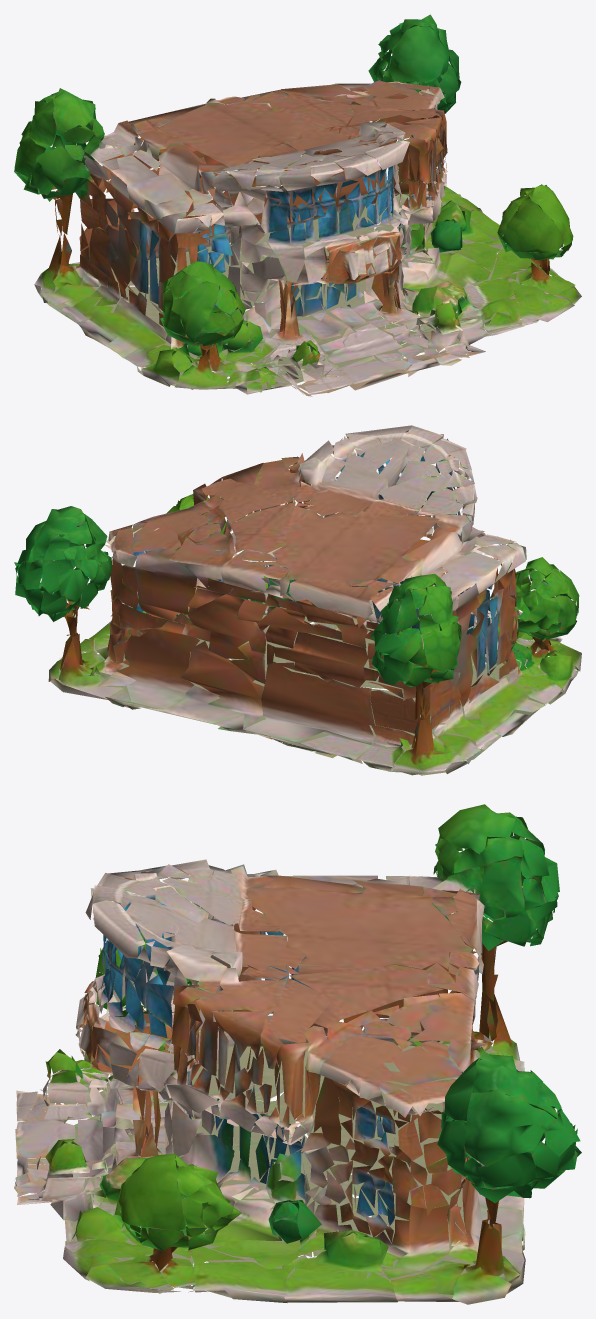
Rendered from library.glb.
3 views of the same model, one above another, from view 1: azimuth 30°, elevation 25°; view 2: azimuth 150°, elevation 25°; view 3: azimuth 270°, elevation 25° (orthographic). The views are drawn at different scales.
Visible parts, largest first — view 1: Mesh_0; view 2: Mesh_0; view 3: Mesh_0.
Boxes of the visible parts, left/top/right/bottom form: Mesh_0: left=14, top=14, right=581, bottom=396; Mesh_0: left=14, top=425, right=581, bottom=775; Mesh_0: left=14, top=804, right=581, bottom=1304.
Size of the model in its own units: 1.91 by 0.845 by 1.63.
1 material, 1 textured.
